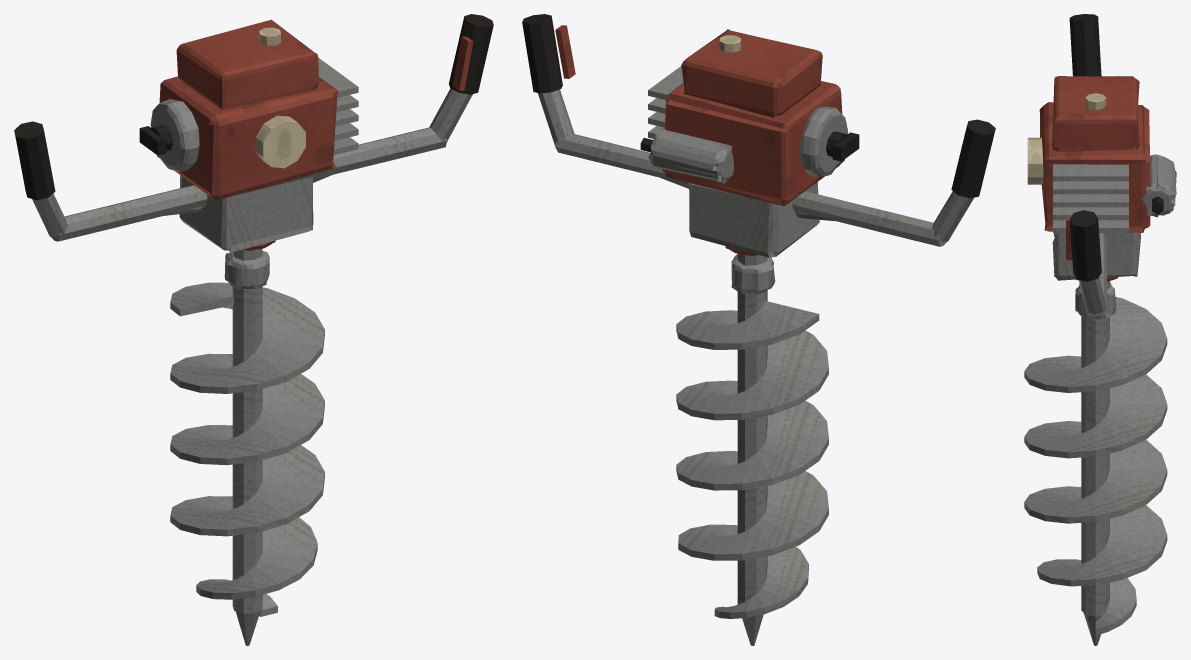
File: barrel_auger.glb
The picture shows the model from 3 angles, left to right: view 1: azimuth 30°, elevation 25°; view 2: azimuth 150°, elevation 25°; view 3: azimuth 270°, elevation 25°; orthographic projection. The views are drawn at different scales.
Visible parts, largest first — view 1: BarrelAuger; view 2: BarrelAuger; view 3: BarrelAuger.
Boxes of the visible parts, x1,y1,x2,y2 form: BarrelAuger: (14,14,493,645); BarrelAuger: (522,14,995,645); BarrelAuger: (1024,14,1176,645).
Bounding box in the file's own units: 1.06 × 1.29 × 0.3198.
Materials: 4 (3 with a texture image).
